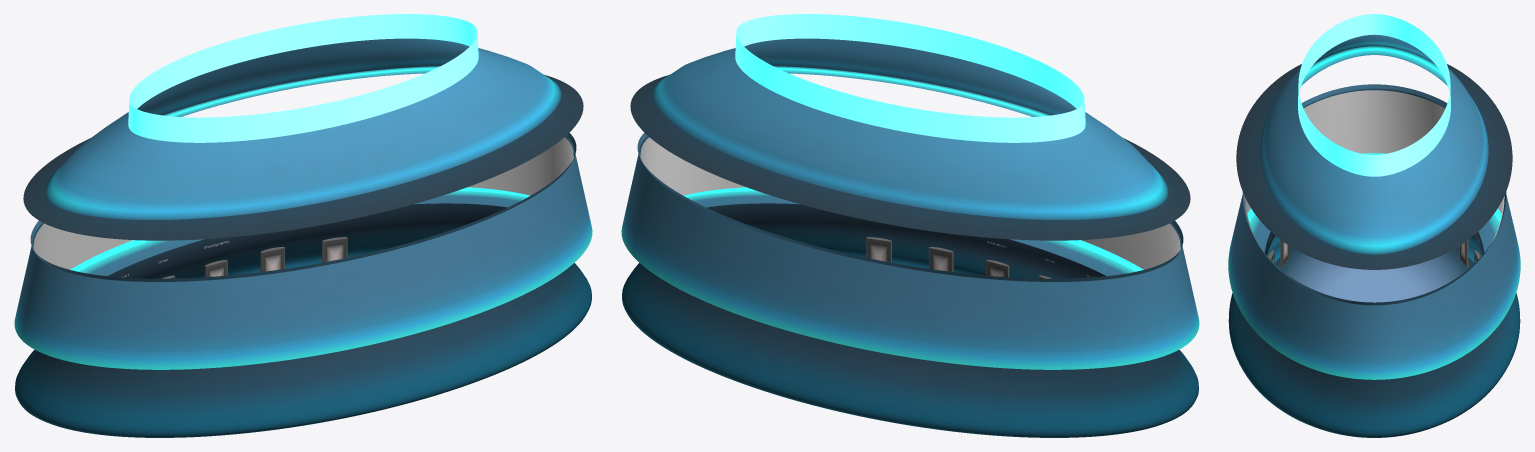
Rendered from MainHUB5.fbx.
3 renders of one model, left to right at view 1: azimuth 30°, elevation 25°; view 2: azimuth 150°, elevation 25°; view 3: azimuth 270°, elevation 25°, orthographic. The views are drawn at different scales.
Visible parts, largest first — view 1: Cylinder, Banner, Portal1, Portal1.001; view 2: Cylinder, Banner, Portal1, Portal1.001; view 3: Cylinder, Banner, Portal1.004.
Part boxes in pixels (x1=…): Cylinder: x1=14, y1=14, x2=592, y2=437; Banner: x1=33, y1=137, x2=573, y2=269; Portal1: x1=322, y1=237, x2=347, y2=262; Portal1.001: x1=260, y1=247, x2=284, y2=271; Cylinder: x1=621, y1=14, x2=1199, y2=437; Banner: x1=640, y1=137, x2=1180, y2=269; Portal1: x1=866, y1=237, x2=891, y2=262; Portal1.001: x1=929, y1=247, x2=953, y2=271; Cylinder: x1=1228, y1=14, x2=1520, y2=437; Banner: x1=1244, y1=90, x2=1504, y2=242; Portal1.004: x1=1280, y1=240, x2=1468, y2=267.
Bounding box in the file's own units: 6500 × 3186 × 3500.
